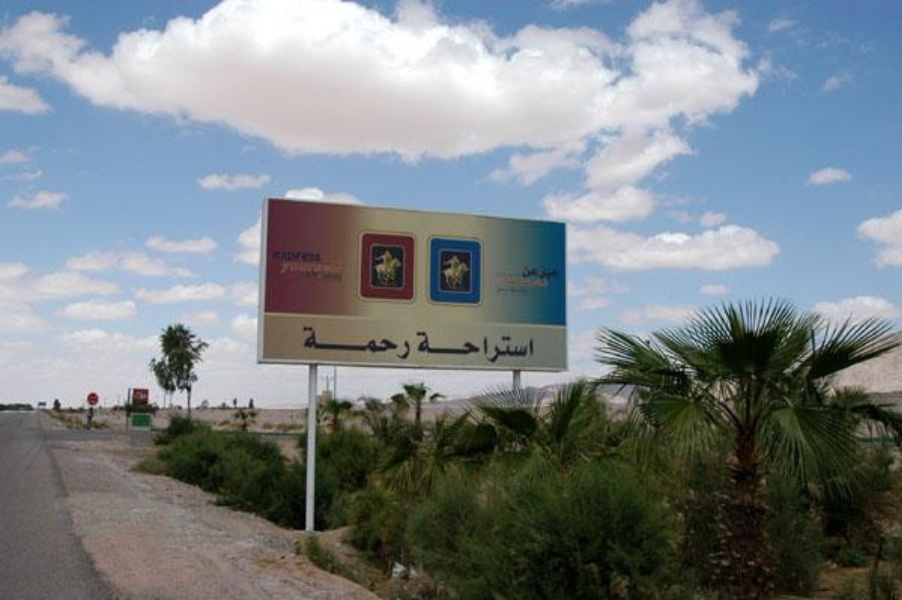text: (305, 324, 320, 361), (321, 324, 336, 361), (337, 324, 352, 361), (353, 324, 368, 361), (369, 324, 384, 361), (385, 324, 400, 361), (417, 330, 432, 366), (433, 330, 448, 366), (449, 330, 464, 366), (465, 330, 480, 366), (481, 330, 496, 366), (497, 330, 512, 366), (513, 330, 528, 366), (273, 249, 288, 285), (289, 249, 304, 285), (305, 249, 320, 285), (321, 249, 336, 285), (497, 262, 512, 297), (513, 262, 528, 297), (529, 262, 544, 297), (545, 262, 557, 297), (401, 324, 412, 361), (337, 249, 346, 285), (529, 330, 537, 366), (411, 330, 416, 366), (491, 262, 496, 297), (301, 324, 304, 361), (270, 249, 272, 285)
